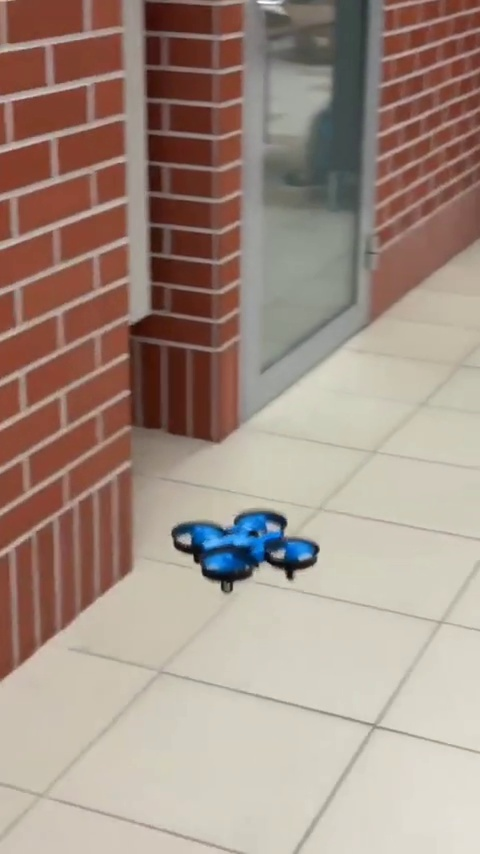drone: (167, 508, 328, 578)
